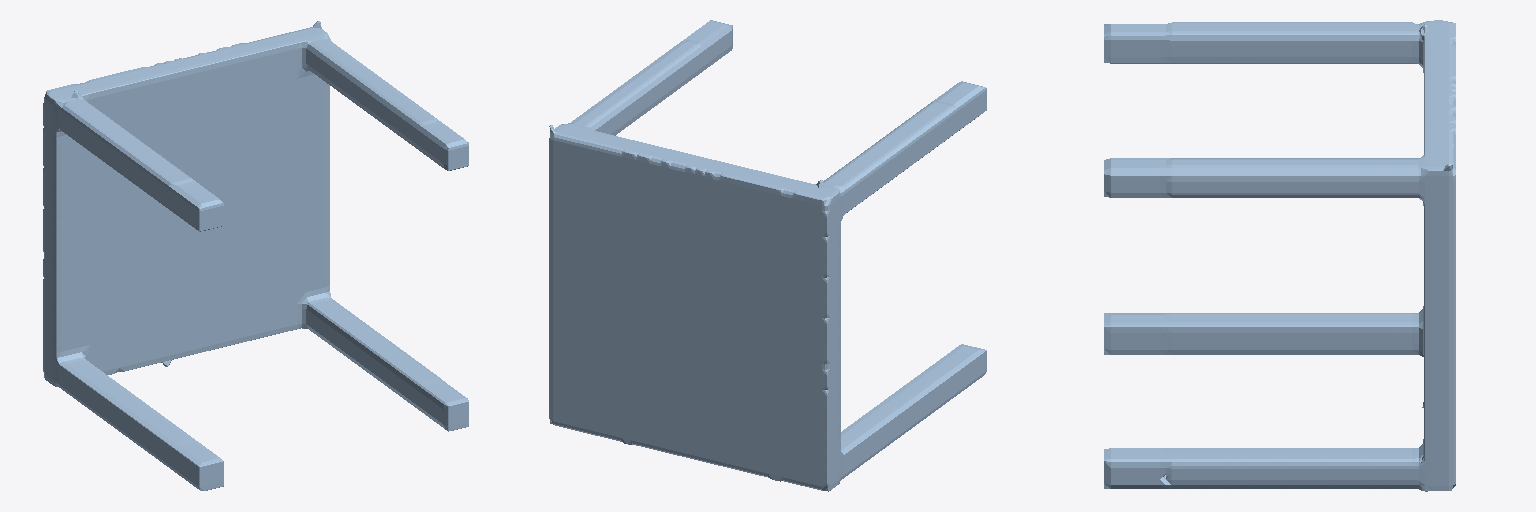
URDF robot description (smalltable.urdf):
<?xml version="1.0" ?>
<robot name="smalltable.urdf">
  <dynamics damping="0.5" friction="0.9"/>
  <link name="baseLink">
    <contact>
      <lateral_friction value="0.9"/>
      <rolling_friction value="0.5"/>
      <stiffness value="30000"/>
      <damping value="1000"/>
    </contact>
    <visual>
      <origin rpy="0 0 0" xyz="0 0 0"/>
      <geometry>
        <mesh filename="objects/smalltable/smalltable.obj" scale="1.0 1.0 1.0"/>
      </geometry>
       <material name="mat">
        <color rgba="0.7 0.8 0.9 1"/>
      </material>
    </visual>
    <collision>
      <origin rpy="0 0 0" xyz="0 0 0"/>
      <geometry>
	 	<mesh filename="objects/smalltable/smalltable.obj" scale="1.0 1.0 1.0"/>
      </geometry>
    </collision>
  </link>
</robot>

--- Render facts (derived) ---
3 views of the same robot in one strip: view 1: azimuth 30°, elevation 25°; view 2: azimuth 150°, elevation 25°; view 3: azimuth 270°, elevation 25° (orthographic).
Model smalltable.urdf with 1 links and 0 joints (none), rooted at baseLink, posed all joints at 0.
Links seen in each view (by area): view 1: baseLink; view 2: baseLink; view 3: baseLink.
Link boxes in pixels (bbox=[...]): baseLink: bbox=[43, 21, 468, 490]; baseLink: bbox=[549, 20, 986, 491]; baseLink: bbox=[1104, 20, 1455, 491].
Bounding box of the posed robot: 0.3525 × 0.348 × 0.3654 m (x, y, z).
Meshes: 1 distinct files referenced, 1 mesh visuals loaded (1 OBJ).